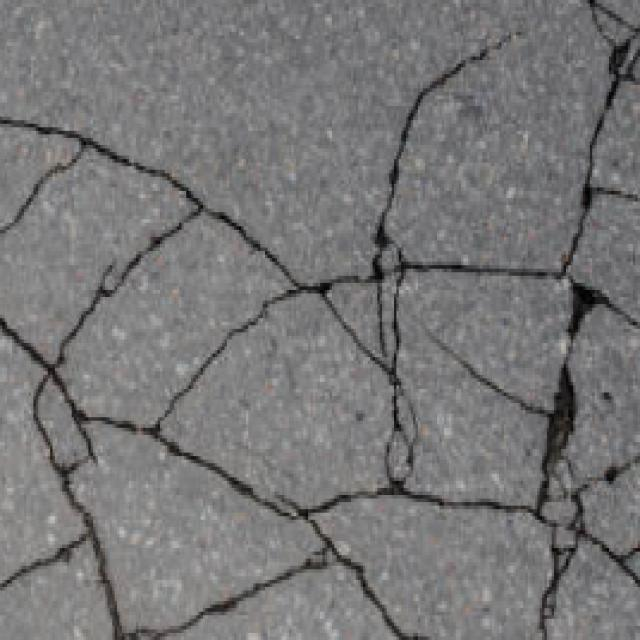network cracks: (0, 0, 639, 639)
